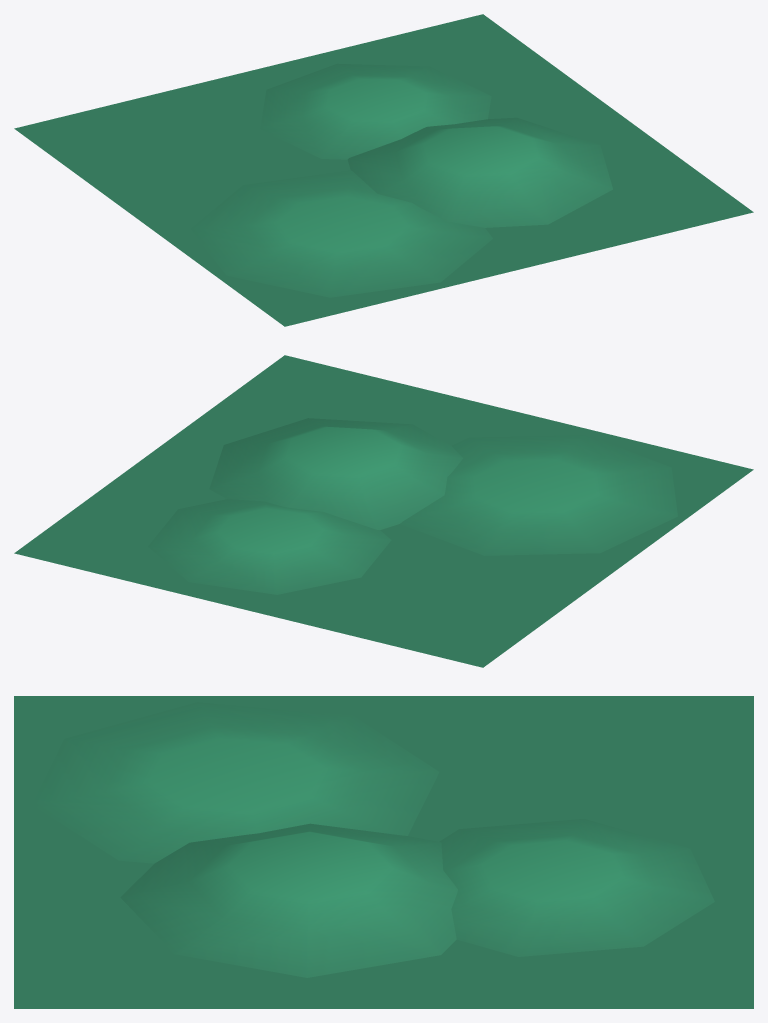
The model's file is decoration-plain.glb.
3 views of the same model, one above another, from view 1: azimuth 30°, elevation 25°; view 2: azimuth 150°, elevation 25°; view 3: azimuth 270°, elevation 25° (orthographic). The views are drawn at different scales.
Visible parts, largest first — view 1: decoration-forest; view 2: decoration-forest; view 3: decoration-forest.
Boxes of the visible parts, left/top/right/bottom form: decoration-forest: left=14, top=14, right=753, bottom=326; decoration-forest: left=14, top=355, right=753, bottom=667; decoration-forest: left=14, top=696, right=753, bottom=1008.
Size of the model in its own units: 10 by 0.4778 by 10.
1 material, 1 textured.
